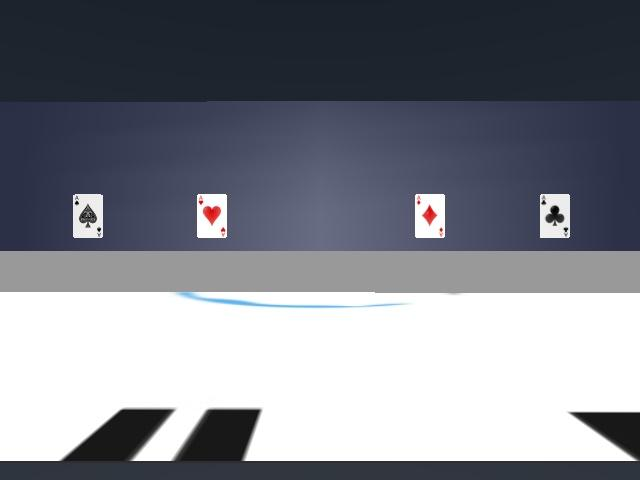club: (73, 194, 104, 238), (539, 194, 570, 237)
diamond: (414, 194, 444, 237)
heart: (196, 194, 227, 238)
